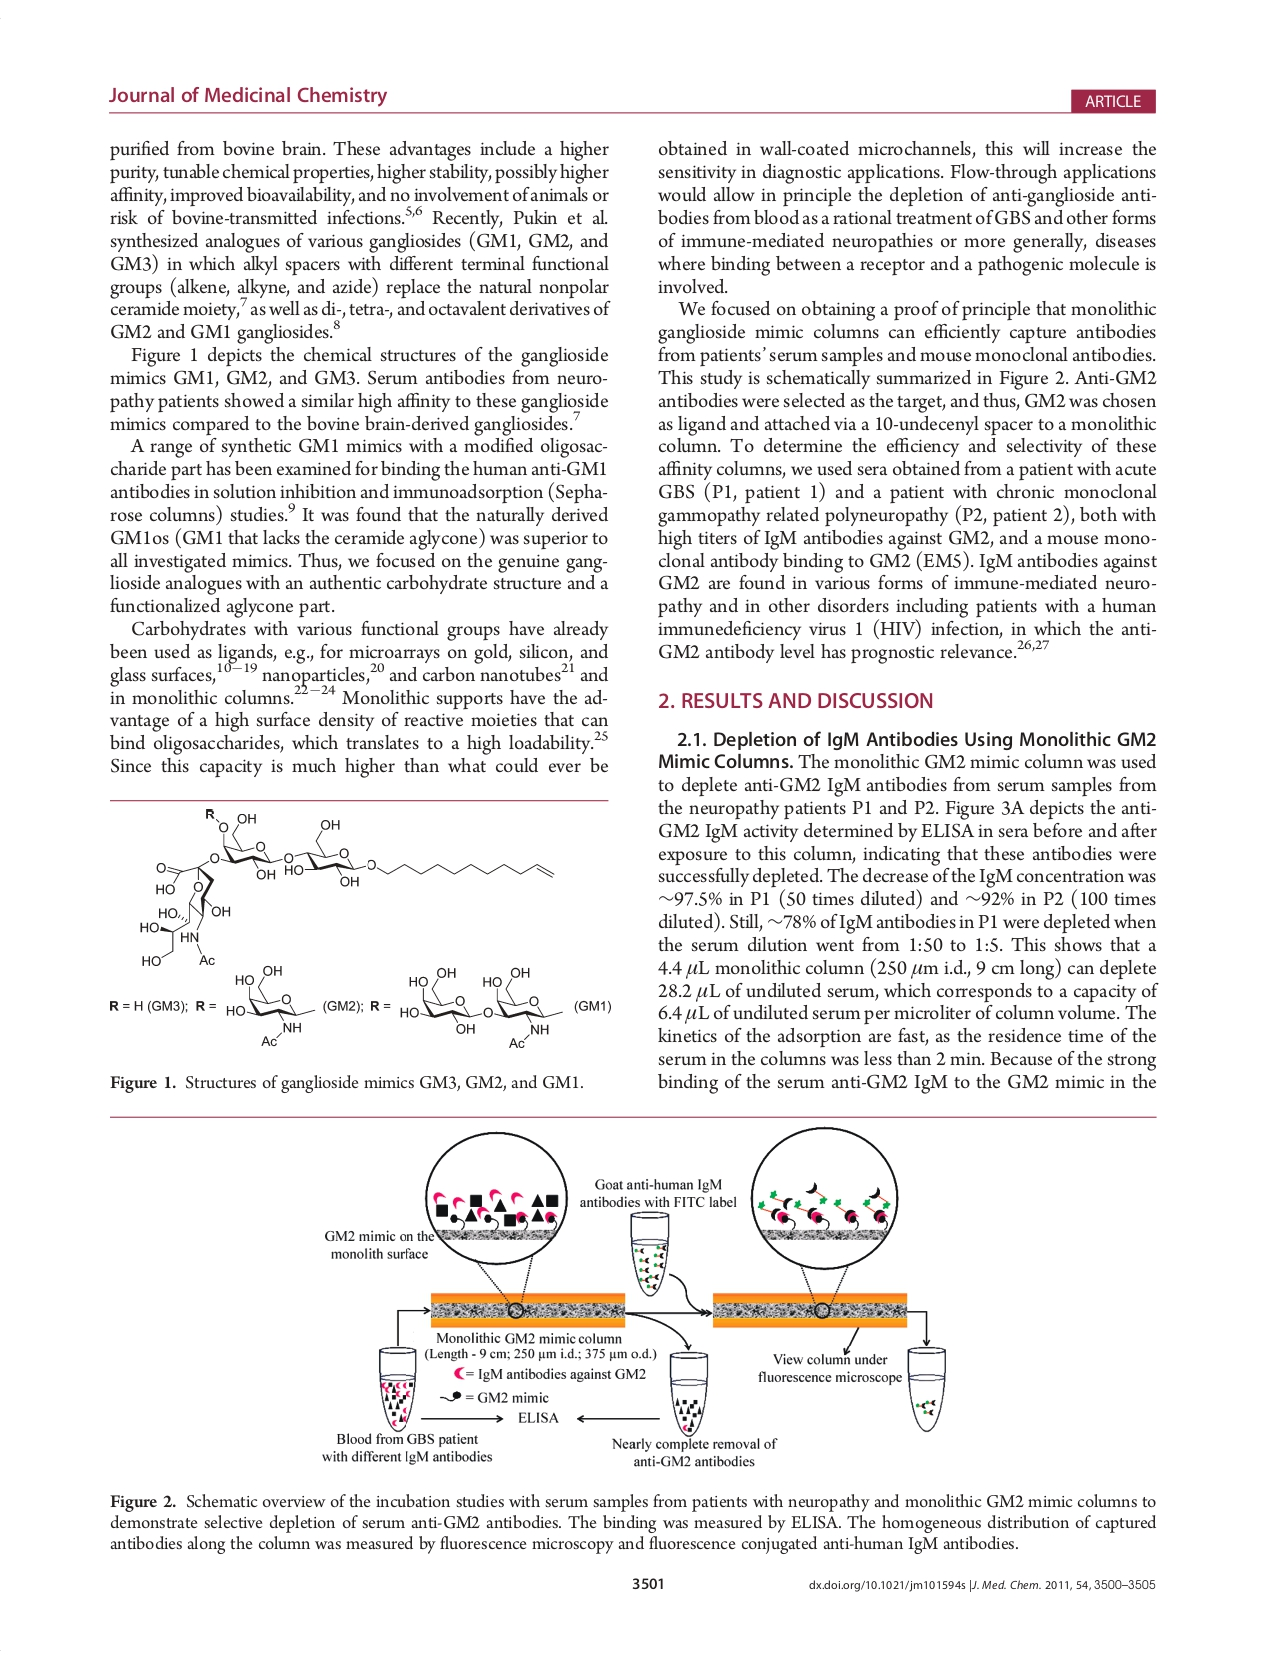exist_molecular: (136, 806, 557, 969), (396, 965, 567, 1051), (222, 962, 318, 1051)
